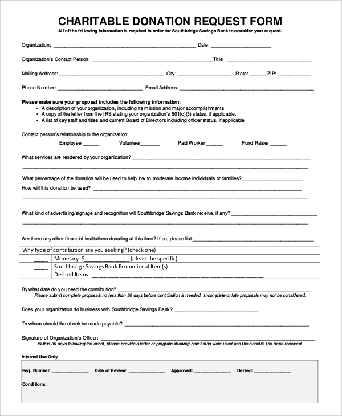checkbox: (17, 262, 54, 281), (252, 365, 293, 375), (17, 253, 52, 264), (193, 366, 231, 374), (140, 138, 161, 148), (205, 138, 225, 148), (81, 138, 100, 147), (269, 138, 288, 147)
textline: (22, 217, 314, 226), (21, 162, 311, 171), (22, 193, 309, 202), (93, 183, 305, 193), (53, 36, 197, 50), (99, 333, 316, 342), (117, 284, 312, 293), (123, 319, 310, 328), (130, 153, 312, 162), (90, 271, 265, 279), (179, 82, 314, 92), (193, 233, 316, 243), (58, 67, 164, 78), (91, 55, 213, 64), (225, 53, 313, 64), (55, 81, 142, 92), (230, 208, 321, 217), (209, 38, 274, 50), (174, 305, 259, 314), (177, 67, 233, 78), (241, 173, 306, 182), (276, 66, 312, 78), (50, 366, 91, 374), (127, 366, 168, 374), (86, 255, 130, 262), (248, 66, 267, 78)
